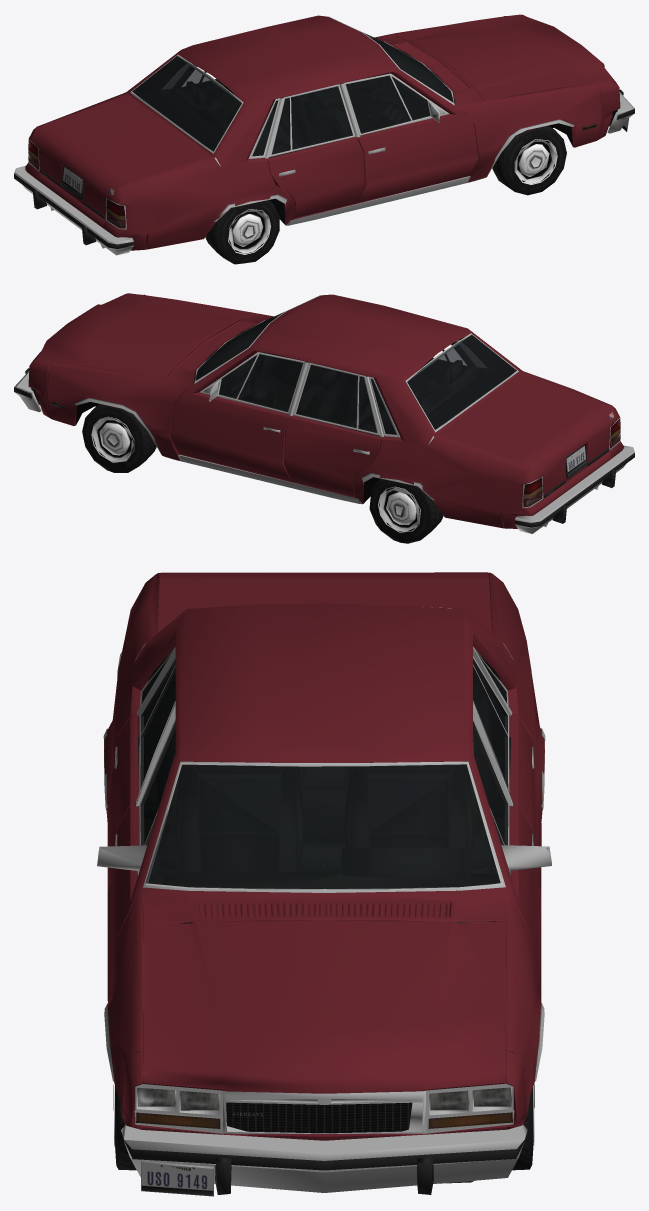
The model's file is sedan-a.glb.
3 views of the same model, one above another, from view 1: azimuth 30°, elevation 25°; view 2: azimuth 150°, elevation 25°; view 3: azimuth 270°, elevation 25° (orthographic). The views are drawn at different scales.
Parts seen in each view (by area): view 1: Fairheaven_LT80_Hood_Fairheaven_LT80_Bodymat_0, Fairheaven_LT80_Taillights_Glass_UCB_Lights_and_Glass_Transp, Fairheaven_LT80_Interior_Trim_UCB_Interior_Trim_0, Fairheaven_LT80_bumper_rear_UCB_BOTTOM_GT_0, Fairheaven_LT80_WheelHubcaps_FL_RB1c_Tire_1k_0, Fairheaven_LT80_Headlights_UCB_Lights_and_Glass_0, Fairheaven_LT80_Numberplate_Rear_Numberplates_Misk_U_0; view 2: Fairheaven_LT80_Hood_Fairheaven_LT80_Bodymat_0, Fairheaven_LT80_Taillights_Glass_UCB_Lights_and_Glass_Transp, Fairheaven_LT80_Interior_Trim_UCB_Interior_Trim_0, Fairheaven_LT80_bumper_rear_UCB_BOTTOM_GT_0, Fairheaven_LT80_WheelHubcaps_FL_RB1c_Tire_1k_0, Fairheaven_LT80_Headlights_UCB_Lights_and_Glass_0; view 3: Fairheaven_LT80_Hood_Fairheaven_LT80_Bodymat_0, Fairheaven_LT80_Taillights_Glass_UCB_Lights_and_Glass_Transp, Fairheaven_LT80_bumper_rear_UCB_BOTTOM_GT_0, Fairheaven_LT80_Interior_Trim_UCB_Interior_Trim_0, Fairheaven_LT80_Headlights_UCB_Lights_and_Glass_0, Fairheaven_LT80_Numberplate_Rear_Numberplates_Misk_U_0, Fairheaven_LT80_WheelHubcaps_FL_RB1c_Tire_1k_0.
Part boxes in pixels (<box>): Fairheaven_LT80_Hood_Fairheaven_LT80_Bodymat_0: <box>25,14,620,250</box>; Fairheaven_LT80_Taillights_Glass_UCB_Lights_and_Glass_Transp: <box>28,32,453,227</box>; Fairheaven_LT80_Interior_Trim_UCB_Interior_Trim_0: <box>105,39,455,214</box>; Fairheaven_LT80_bumper_rear_UCB_BOTTOM_GT_0: <box>14,16,634,255</box>; Fairheaven_LT80_WheelHubcaps_FL_RB1c_Tire_1k_0: <box>205,125,566,264</box>; Fairheaven_LT80_Headlights_UCB_Lights_and_Glass_0: <box>28,141,125,228</box>; Fairheaven_LT80_Numberplate_Rear_Numberplates_Misk_U_0: <box>63,118,629,196</box>; Fairheaven_LT80_Hood_Fairheaven_LT80_Bodymat_0: <box>28,293,623,528</box>; Fairheaven_LT80_Taillights_Glass_UCB_Lights_and_Glass_Transp: <box>195,311,620,505</box>; Fairheaven_LT80_Interior_Trim_UCB_Interior_Trim_0: <box>193,318,613,492</box>; Fairheaven_LT80_bumper_rear_UCB_BOTTOM_GT_0: <box>14,295,634,533</box>; Fairheaven_LT80_WheelHubcaps_FL_RB1c_Tire_1k_0: <box>82,404,443,543</box>; Fairheaven_LT80_Headlights_UCB_Lights_and_Glass_0: <box>523,419,620,507</box>; Fairheaven_LT80_Hood_Fairheaven_LT80_Bodymat_0: <box>104,572,544,1140</box>; Fairheaven_LT80_Taillights_Glass_UCB_Lights_and_Glass_Transp: <box>141,655,510,1110</box>; Fairheaven_LT80_bumper_rear_UCB_BOTTOM_GT_0: <box>97,607,551,1194</box>; Fairheaven_LT80_Interior_Trim_UCB_Interior_Trim_0: <box>142,577,506,923</box>; Fairheaven_LT80_Headlights_UCB_Lights_and_Glass_0: <box>138,1087,510,1109</box>; Fairheaven_LT80_Numberplate_Rear_Numberplates_Misk_U_0: <box>141,1161,213,1196</box>; Fairheaven_LT80_WheelHubcaps_FL_RB1c_Tire_1k_0: <box>113,744,534,1170</box>.
Size of the model in its own units: 4.99 by 1.34 by 1.82.
8 materials, 7 textured.
